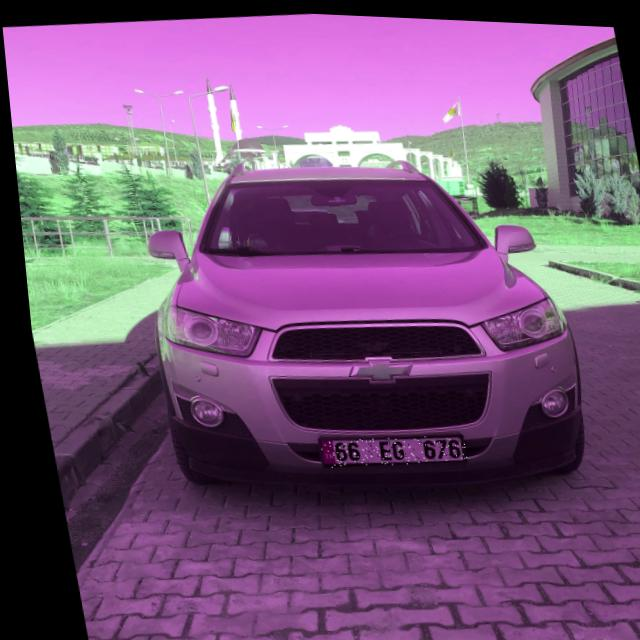license_plate: (309, 425, 459, 470)
